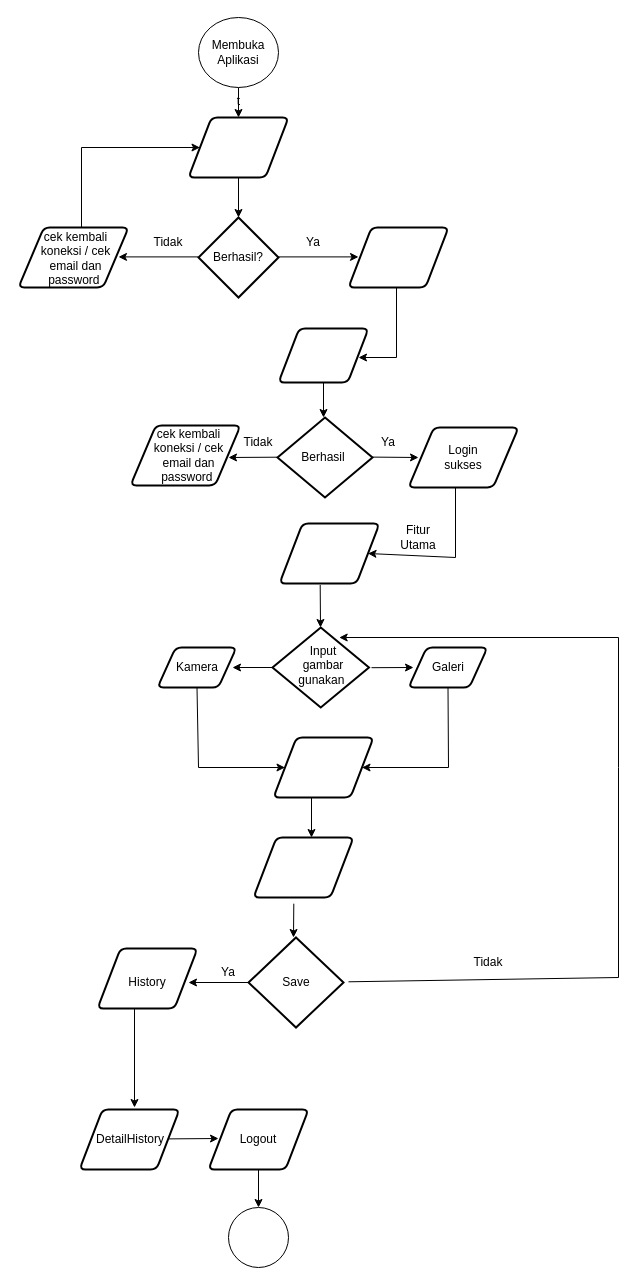
Image size: 644x1285. Some labels were removed from this diagram. The centre of each missing label's shape, as x and y in pixels:
"Analyze desease" belongs at pixel 323 767.
"End" belongs at pixel 258 1237.
"Login" belongs at pixel 323 355.
"Register" belongs at pixel 238 147.
"Register sukses" belongs at pixel 398 257.
"Result" belongs at pixel 303 867.
"Scan Detection Page" belongs at pixel 329 553.
